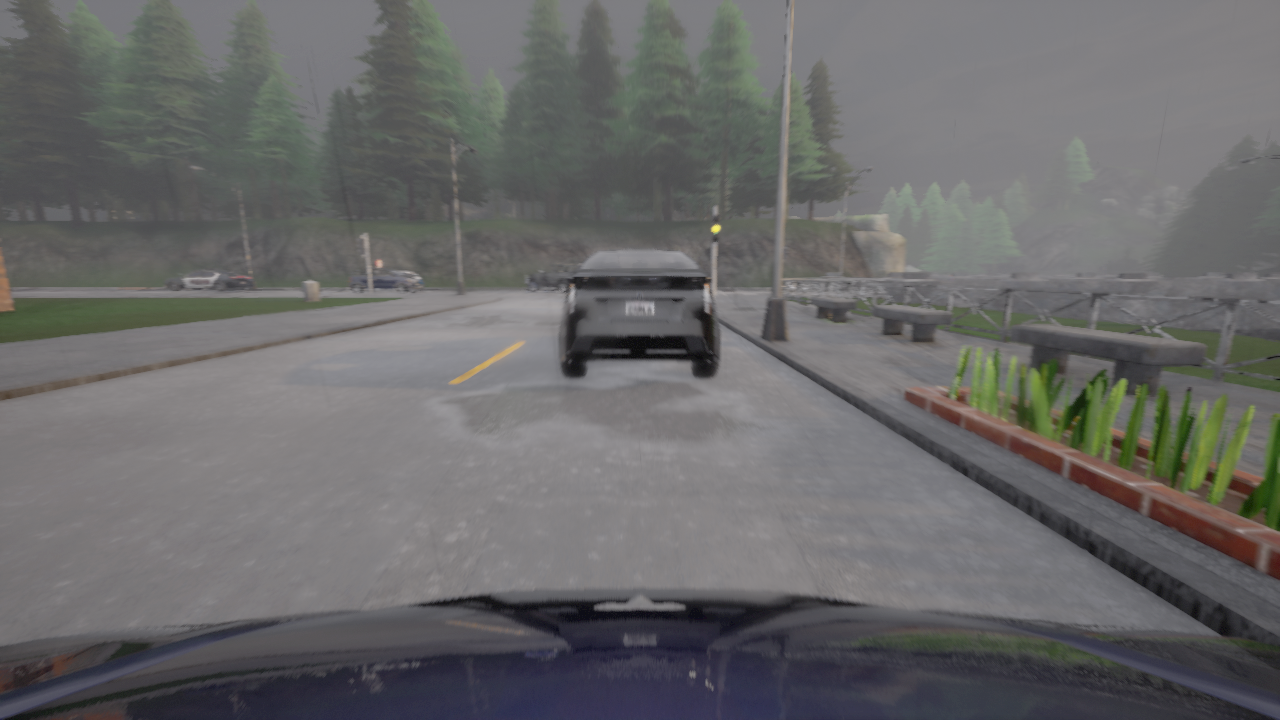cyclist: (0, 588, 1279, 719), (559, 249, 720, 377), (165, 268, 253, 291), (349, 267, 419, 293), (526, 263, 580, 292), (400, 271, 424, 291)
pedestrian: (950, 274, 952, 280)
